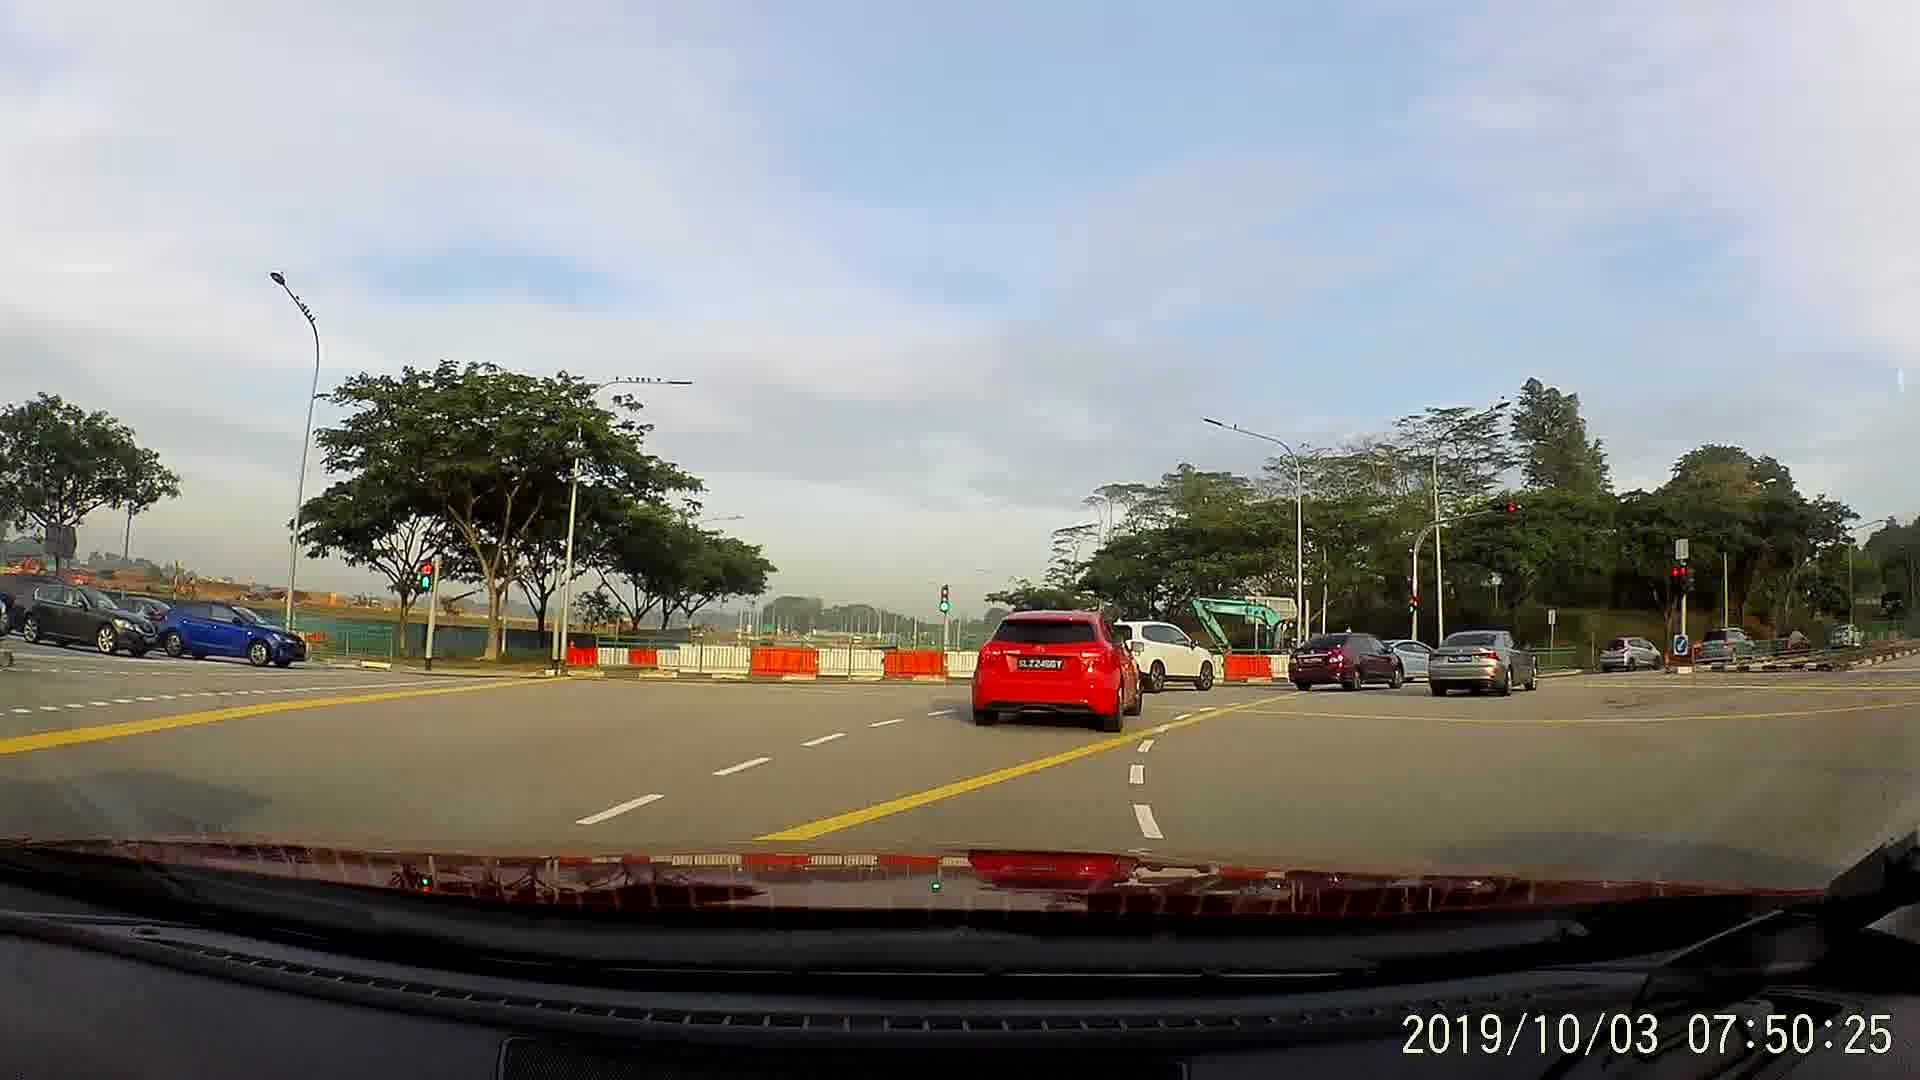car: (960, 604, 1147, 735), (148, 592, 311, 670), (11, 580, 161, 663), (1284, 632, 1406, 698), (1425, 634, 1538, 694), (1117, 621, 1211, 686), (1685, 622, 1760, 669), (1601, 632, 1669, 676), (1825, 616, 1867, 655), (1775, 622, 1818, 661)
